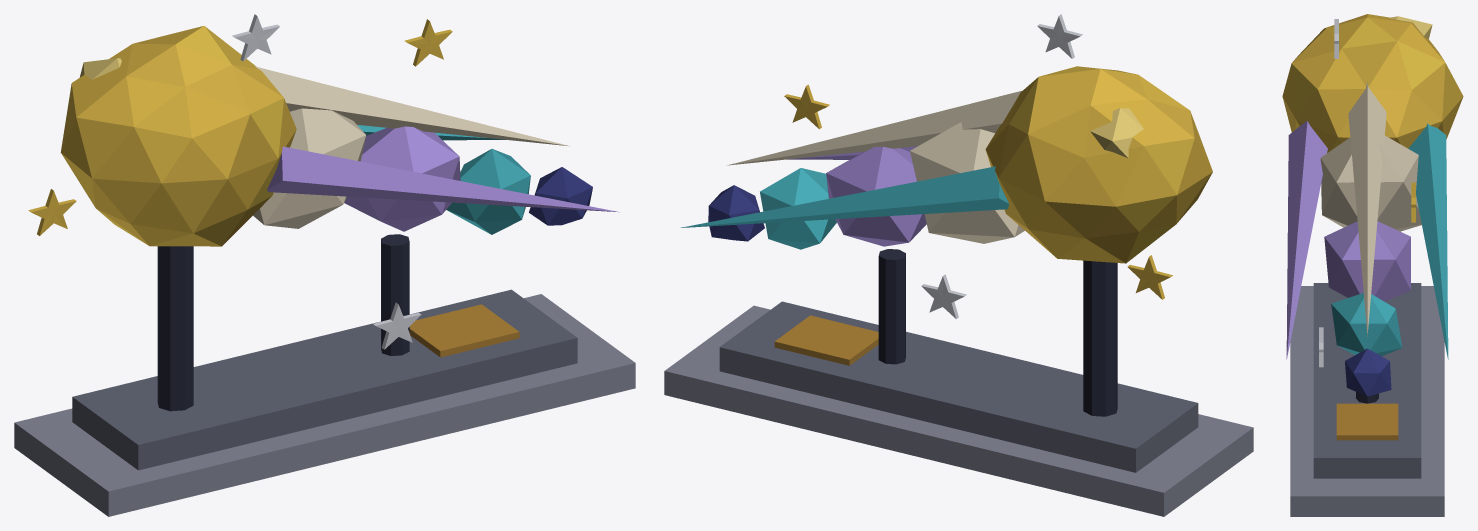
File: Decor_Observatory_Comet.fbx
3 renders of one model, left to right at view 1: azimuth 30°, elevation 25°; view 2: azimuth 150°, elevation 25°; view 3: azimuth 270°, elevation 25°, orthographic. The views are drawn at different scales.
Parts seen in each view (by area): view 1: Comet_Body; view 2: Comet_Body; view 3: Comet_Body.
Boxes of the visible parts, x1,y1,x2,y2 form: Comet_Body: [14, 14, 635, 516]; Comet_Body: [664, 14, 1253, 516]; Comet_Body: [1282, 14, 1463, 516].
Size of the model in its own units: 12.1 by 9.6 by 4.4.
